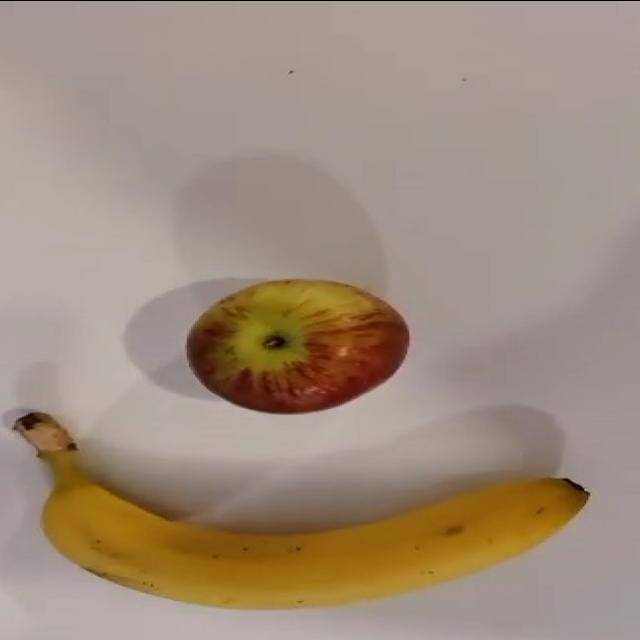Apple: (185, 277, 410, 413)
Banana: (12, 409, 590, 610)
